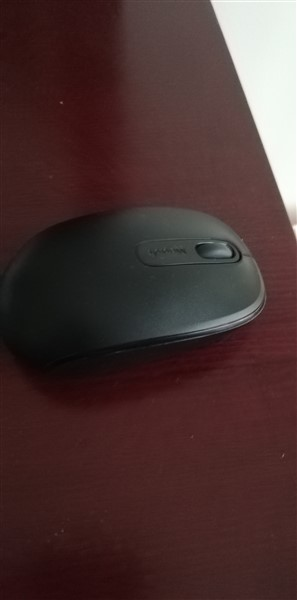mouse: (2, 192, 282, 391)
